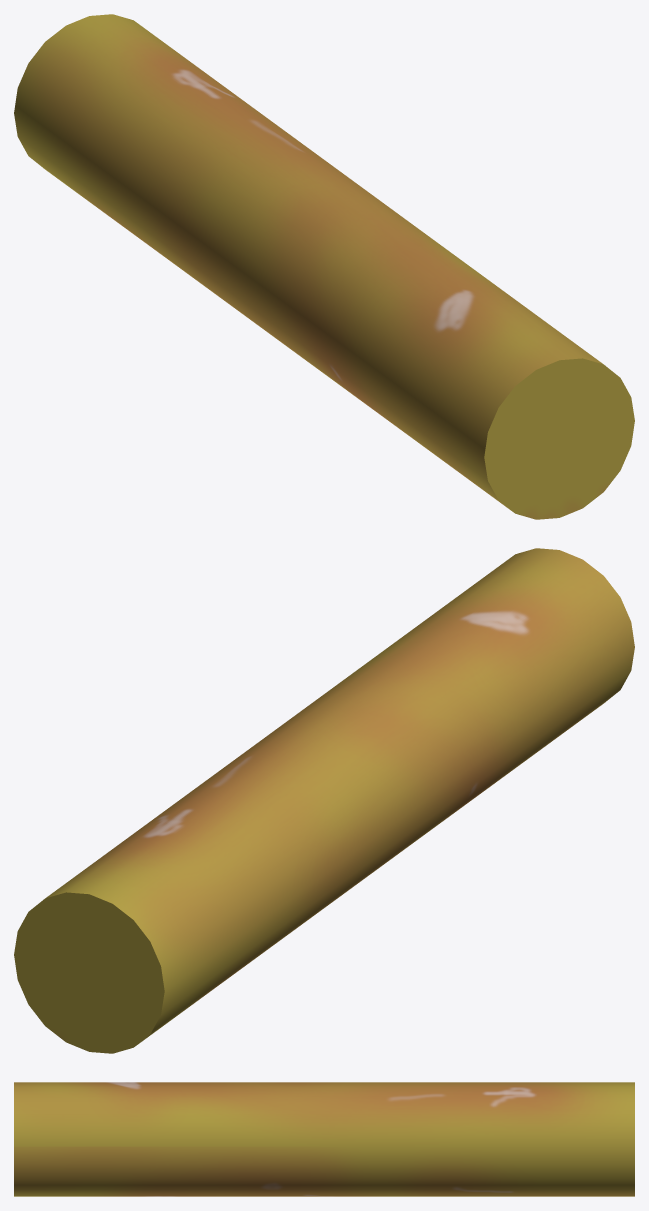
Rendered from Laser.obj.
3 renders of one model, top to bottom at view 1: azimuth 30°, elevation 25°; view 2: azimuth 150°, elevation 25°; view 3: azimuth 270°, elevation 25°, orthographic. The views are drawn at different scales.
Parts seen in each view (by area): view 1: Laser_Laser_pCylinder1; view 2: Laser_Laser_pCylinder1; view 3: Laser_Laser_pCylinder1.
Boxes of the visible parts, left/top/right/bottom form: Laser_Laser_pCylinder1: left=14, top=14, right=634, bottom=519; Laser_Laser_pCylinder1: left=14, top=548, right=634, bottom=1053; Laser_Laser_pCylinder1: left=14, top=1082, right=634, bottom=1196.
Size of the model in its own units: 0.5183 by 0.5183 by 2.8.
